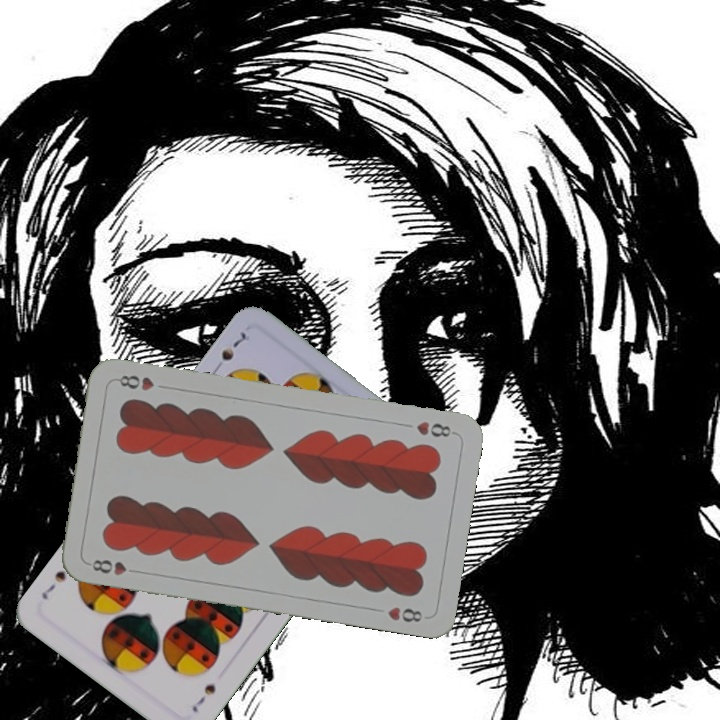H8: (88, 555, 143, 578), (412, 417, 458, 440)
S7: (209, 328, 251, 376), (188, 680, 219, 715)
